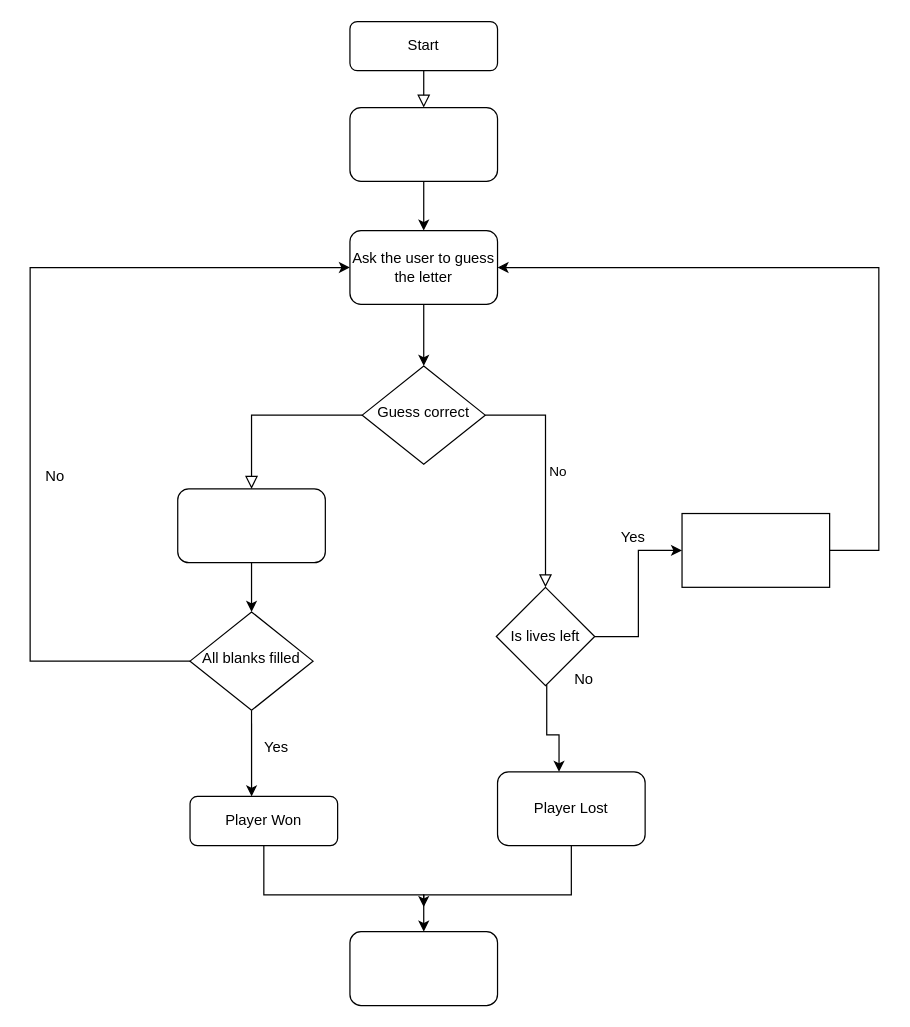
Image size: 910x1027. Some labels were removed from this diagram. Here are the shapes that lost their labels. From the top down, the centre of each, then its label:
the point at 423,143: Generate the word
the point at 251,525: Fill the letters
the point at 755,549: Draw the animation
the point at 423,968: Stop
